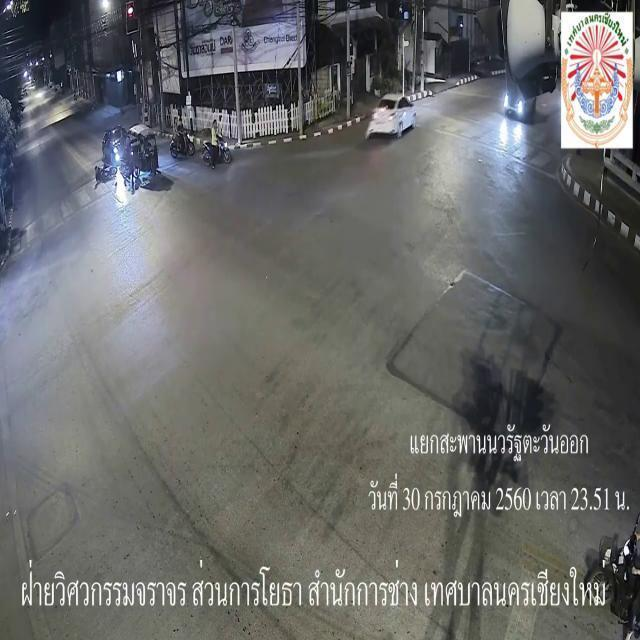accident: (97, 165, 117, 181)
non-accident: (104, 128, 164, 190)
